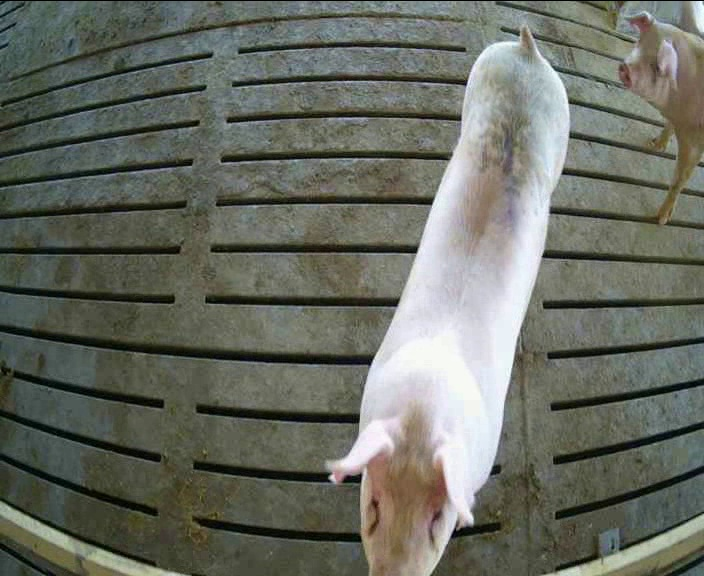pig: (326, 27, 568, 573), (619, 12, 703, 223)
